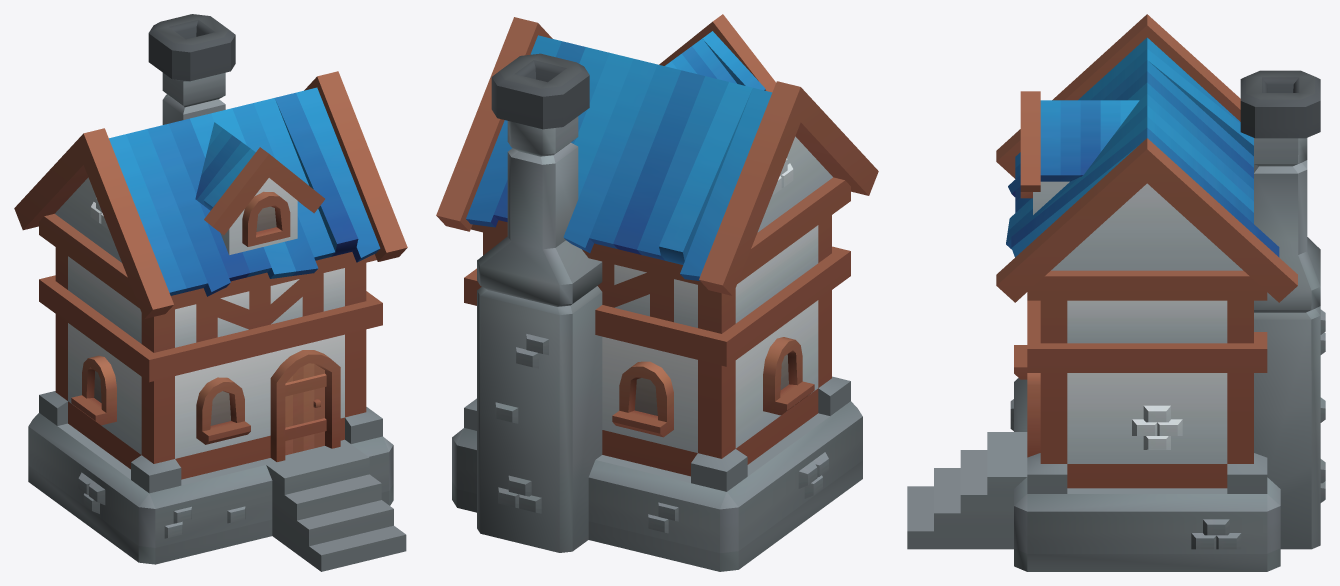
File: kit_c1.glb
3 renders of one model, left to right at view 1: azimuth 30°, elevation 25°; view 2: azimuth 150°, elevation 25°; view 3: azimuth 270°, elevation 25°, orthographic. The views are drawn at different scales.
Parts seen in each view (by area): view 1: building_home_B_blue; view 2: building_home_B_blue; view 3: building_home_B_blue.
Part boxes in pixels (box(x1,y1,x2,y2)): building_home_B_blue: box(14, 14, 407, 571); building_home_B_blue: box(436, 14, 878, 571); building_home_B_blue: box(907, 14, 1325, 571).
Size of the model in its own units: 6.37 by 9.32 by 8.
3 materials, 3 textured.
